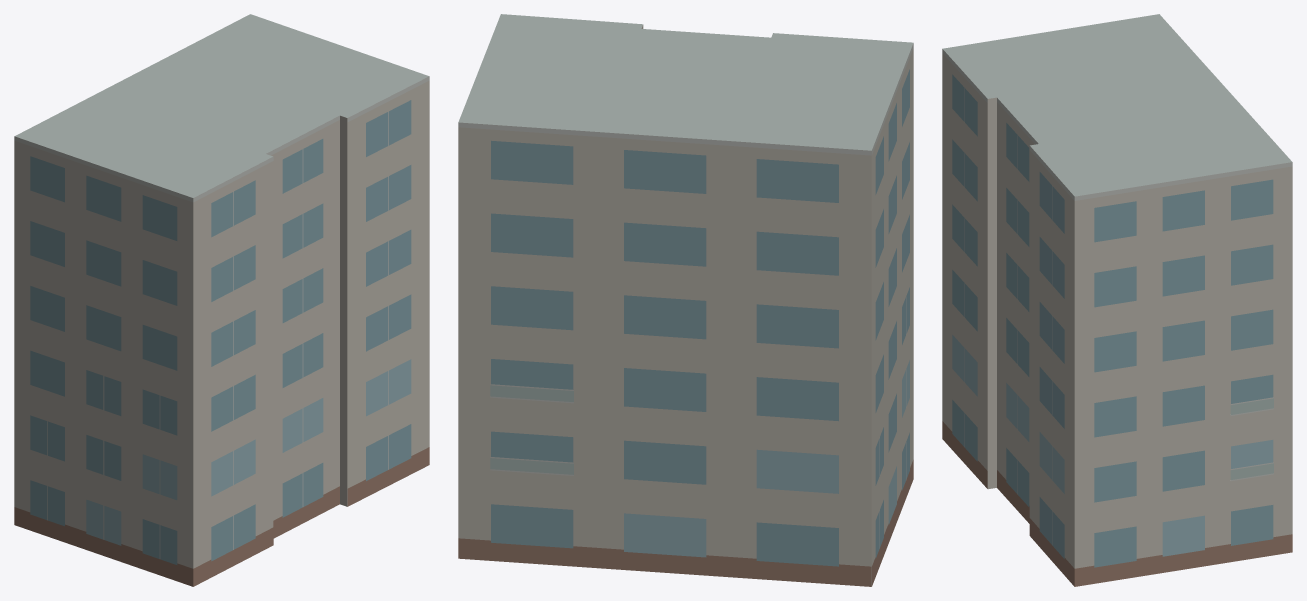
File: survey-upis-32848804.glb
The picture shows the model from 3 angles, left to right: view 1: azimuth 30°, elevation 25°; view 2: azimuth 150°, elevation 25°; view 3: azimuth 270°, elevation 25°; orthographic projection. The views are drawn at different scales.
Visible parts, largest first — view 1: survey-upis-32848804.tmp; view 2: survey-upis-32848804.tmp; view 3: survey-upis-32848804.tmp.
Boxes of the visible parts, box(x1,y1,x2,y2) form: survey-upis-32848804.tmp: box(14, 14, 429, 586); survey-upis-32848804.tmp: box(458, 14, 913, 586); survey-upis-32848804.tmp: box(942, 14, 1292, 586).
Size of the model in its own units: 22.04 by 21.95 by 17.86.
